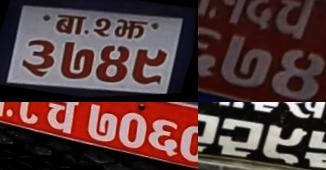0: (113, 107, 154, 156), (175, 120, 198, 168)
1: (212, 0, 255, 29)
2: (212, 111, 269, 167), (198, 103, 226, 159), (88, 12, 118, 44)
3: (18, 36, 61, 80)
4: (267, 41, 326, 102), (91, 43, 138, 89)
5: (300, 126, 326, 170), (246, 102, 288, 122)
6: (198, 17, 230, 85), (144, 116, 188, 164), (240, 0, 283, 37)
7: (214, 28, 282, 97), (52, 39, 100, 87), (78, 102, 125, 148)
8: (9, 102, 51, 129)
9: (258, 119, 313, 170), (128, 45, 175, 92)
ba: (50, 10, 90, 42), (198, 102, 258, 119)
cha: (266, 0, 324, 49), (37, 102, 87, 139)
jha: (112, 16, 150, 46)
kha: (276, 102, 326, 131)
